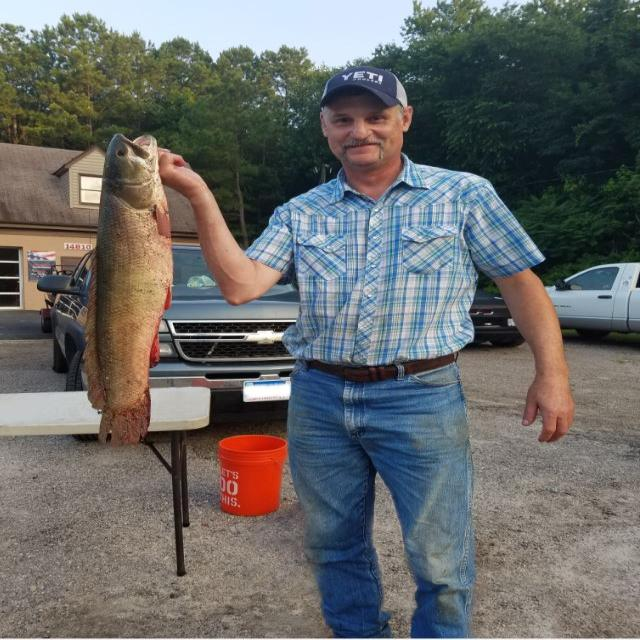Bowfin: (85, 135, 172, 445)
